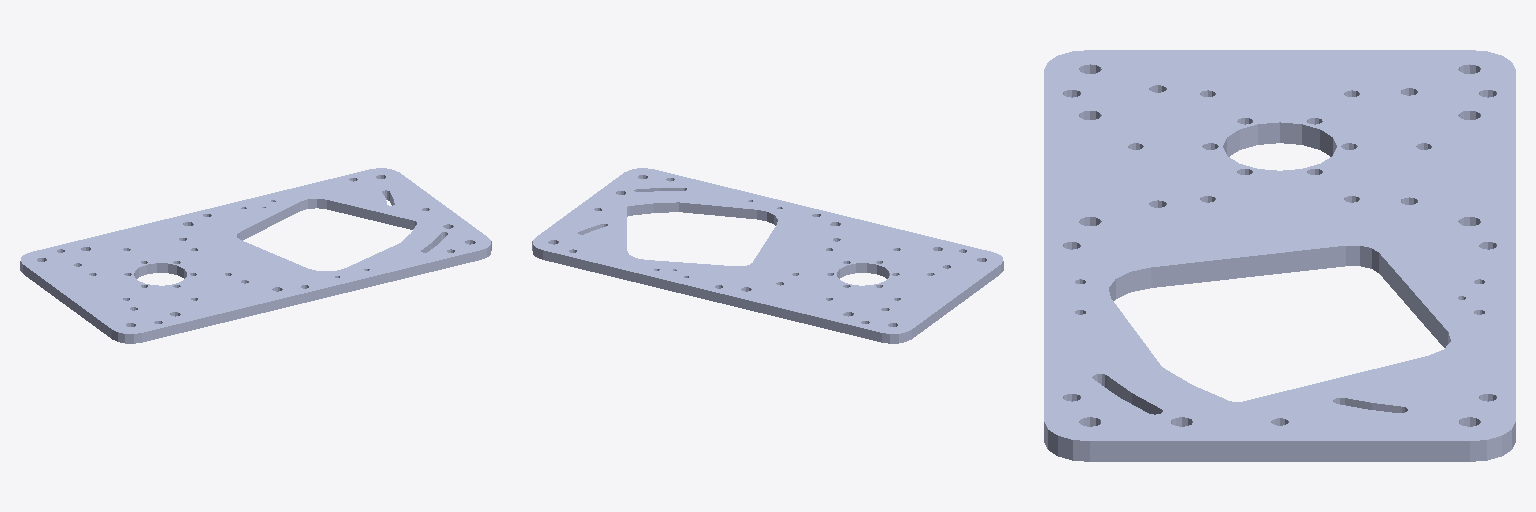
URDF robot description (blue_description_base):
<robot
  name="blue_description_base">
  <link
    name="base_link">
    <inertial>
      <origin
        xyz="0.0560024374186662 0.000189445541681321 0.0201835602327798"
        rpy="0 0 0" />
      <mass
        value="0.284612172465311" />
      <inertia
        ixx="0.000716950374478633"
        ixy="-4.58477843167981E-06"
        ixz="4.20772050305934E-06"
        iyy="0.00197711566495113"
        iyz="9.13561852910017E-07"
        izz="0.00239705630031167" />
    </inertial>
    <visual>
      <origin
        xyz="0 0 0"
        rpy="0 0 0" />
      <geometry>
        <mesh
          filename="package://blue_description_base/meshes/base_link.STL" />
      </geometry>
      <material
        name="">
        <color
          rgba="0.792156862745098 0.819607843137255 0.933333333333333 1" />
      </material>
    </visual>
    <collision>
      <origin
        xyz="0 0 0"
        rpy="0 0 0" />
      <geometry>
        <mesh
          filename="package://blue_description_base/meshes/base_link.STL" />
      </geometry>
    </collision>
  </link>
  <link
    name="shoulder_link">
    <inertial>
      <origin
        xyz="0.0043477541389173 2.01234773878345E-05 -0.0764683318824377"
        rpy="0 0 0" />
      <mass
        value="1.80901122392276" />
      <inertia
        ixx="0.0091937456982913"
        ixy="1.27362263865398E-08"
        ixz="0.00010247865043886"
        iyy="0.00871917388181738"
        iyz="3.26622166777351E-06"
        izz="0.00388062453070139" />
    </inertial>
    <visual>
      <origin
        xyz="0 0 0"
        rpy="0 0 0" />
      <geometry>
        <mesh
          filename="package://blue_description_base/meshes/shoulder_link.STL" />
      </geometry>
      <material
        name="">
        <color
          rgba="0.843137254901961 0.815686274509804 0.752941176470588 1" />
      </material>
    </visual>
    <collision>
      <origin
        xyz="0 0 0"
        rpy="0 0 0" />
      <geometry>
        <mesh
          filename="package://blue_description_base/meshes/shoulder_link.STL" />
      </geometry>
    </collision>
  </link>
  <joint
    name="base_roll_joint"
    type="revolute">
    <origin
      xyz="0 0 0.054356"
      rpy="3.1416 -2.2011E-29 0.0" />
    <parent
      link="base_link" />
    <child
      link="shoulder_link" />
    <axis
      xyz="0 0 1" />
    <limit
      lower="-3.1415"
      upper="3.1415"
      effort="0"
      velocity="0" />
  </joint>
</robot>

--- Render facts (derived) ---
The picture shows the robot from 3 angles, left to right: view 1: azimuth 30°, elevation 25°; view 2: azimuth 150°, elevation 25°; view 3: azimuth 270°, elevation 25°; orthographic projection.
Model blue_description_base with 2 links and 1 joints (1 revolute), rooted at base_link, posed all joints at 0.
Visible links, largest first — view 1: base_link; view 2: base_link; view 3: base_link.
Boxes of the visible links, x1,y1,x2,y2 form: base_link: (20,168,491,343); base_link: (532,168,1003,343); base_link: (1044,50,1515,461).
Bounding box of the posed robot: 0.2572 × 0.1308 × 0.0063 m (x, y, z).
Meshes: 2 distinct files referenced, 1 mesh visuals loaded (1 binary STL); not drawn: 1 (reference not matched to a file when rendering).